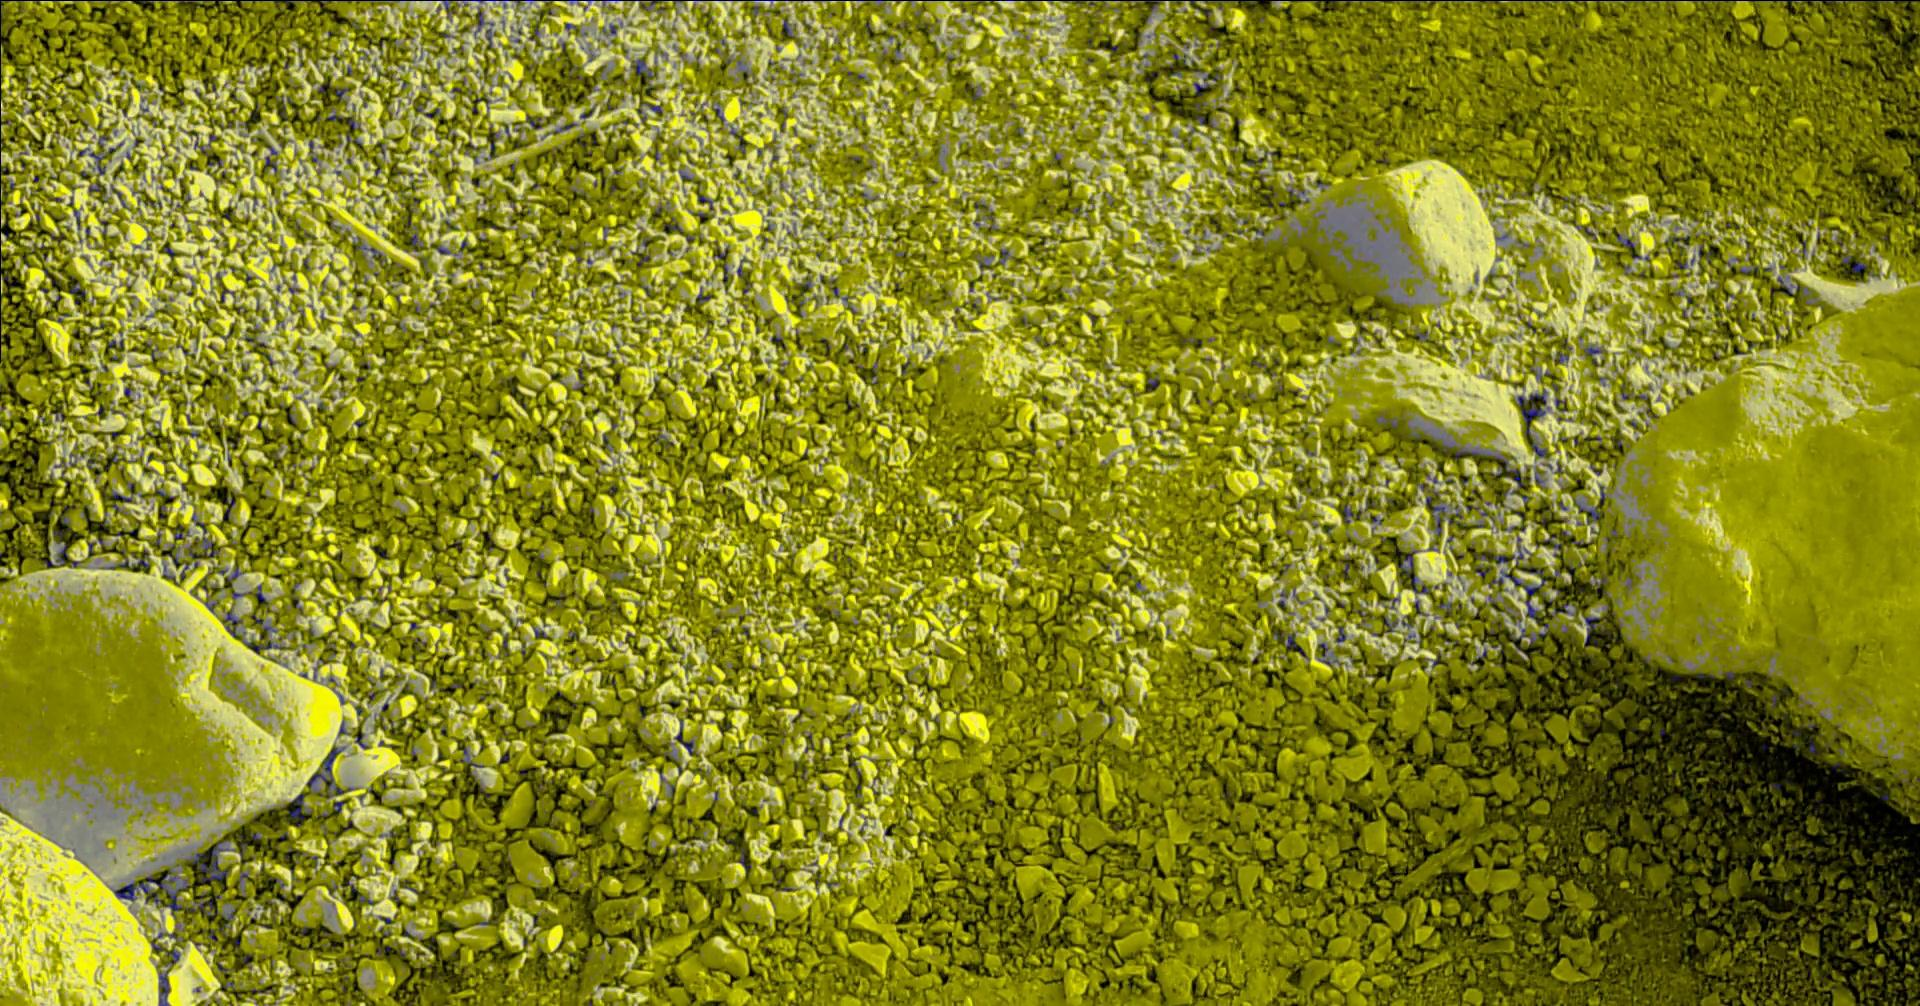ant: (113, 868, 213, 915), (1488, 564, 1545, 622), (306, 746, 344, 798), (241, 614, 283, 653), (189, 840, 229, 882), (1495, 455, 1543, 486), (76, 149, 105, 194), (1517, 395, 1545, 434), (231, 584, 268, 611), (100, 549, 149, 569), (1510, 622, 1549, 645), (356, 238, 386, 264), (674, 719, 697, 754), (44, 531, 66, 567), (1582, 615, 1606, 645), (185, 536, 218, 558), (290, 793, 311, 826), (630, 58, 657, 83), (1575, 499, 1600, 523), (1192, 74, 1222, 94), (1511, 536, 1529, 569), (221, 610, 241, 636), (1431, 500, 1445, 536), (1415, 483, 1437, 504), (460, 747, 484, 767), (1317, 641, 1337, 664), (1399, 550, 1417, 575), (1272, 631, 1297, 649), (1384, 616, 1412, 631), (1455, 447, 1492, 459), (1204, 0, 1257, 8), (218, 909, 235, 931), (477, 8, 493, 30), (1342, 504, 1361, 522), (1411, 574, 1429, 593), (1550, 602, 1575, 616), (737, 848, 750, 873), (157, 972, 168, 1005), (1476, 554, 1491, 575), (436, 0, 455, 17), (1665, 234, 1689, 246), (1531, 439, 1548, 457), (526, 113, 541, 130), (1617, 232, 1634, 246), (1377, 415, 1397, 427), (411, 232, 423, 251), (165, 948, 179, 963), (1583, 345, 1604, 354), (1554, 351, 1568, 363), (1336, 626, 1345, 641), (1843, 0, 1900, 1)
